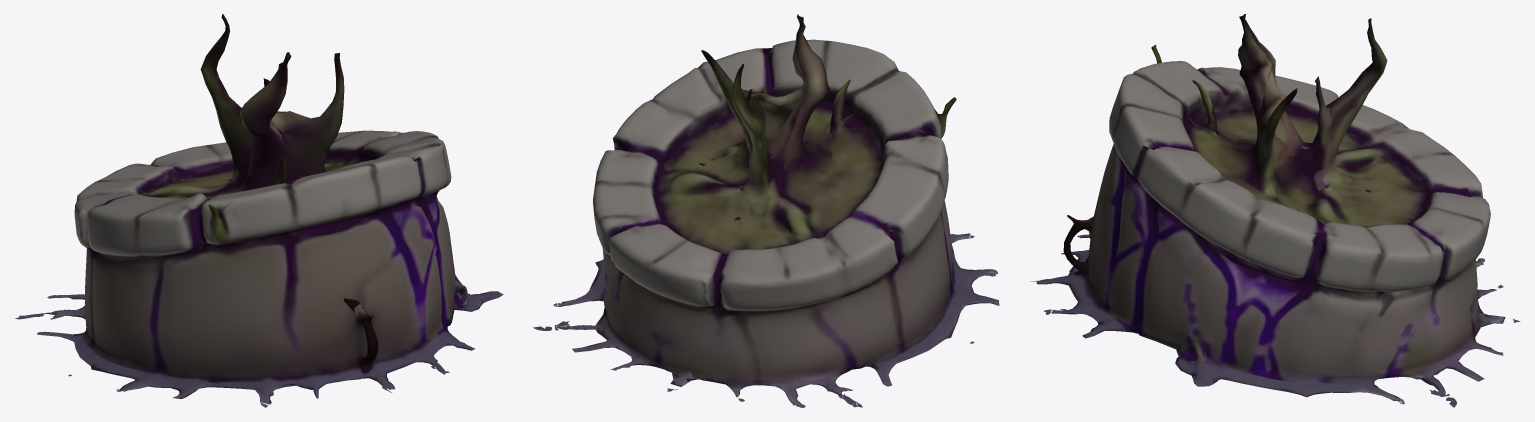
The model's file is SM_Entorno_PedestalPiedraAgrietada_01.fbx.
3 renders of one model, left to right at view 1: azimuth 30°, elevation 25°; view 2: azimuth 150°, elevation 25°; view 3: azimuth 270°, elevation 25°, orthographic. The views are drawn at different scales.
Visible parts, largest first — view 1: SM_Entorno_PedestalPiedraAgrietada_01; view 2: SM_Entorno_PedestalPiedraAgrietada_01; view 3: SM_Entorno_PedestalPiedraAgrietada_01.
Part boxes in pixels (box(x1,y1,x2,y2)): SM_Entorno_PedestalPiedraAgrietada_01: box(15, 14, 503, 407); SM_Entorno_PedestalPiedraAgrietada_01: box(533, 14, 999, 407); SM_Entorno_PedestalPiedraAgrietada_01: box(1030, 14, 1520, 407).
Size of the model in its own units: 0.9415 by 0.6858 by 0.9976.
1 material, 1 textured.
